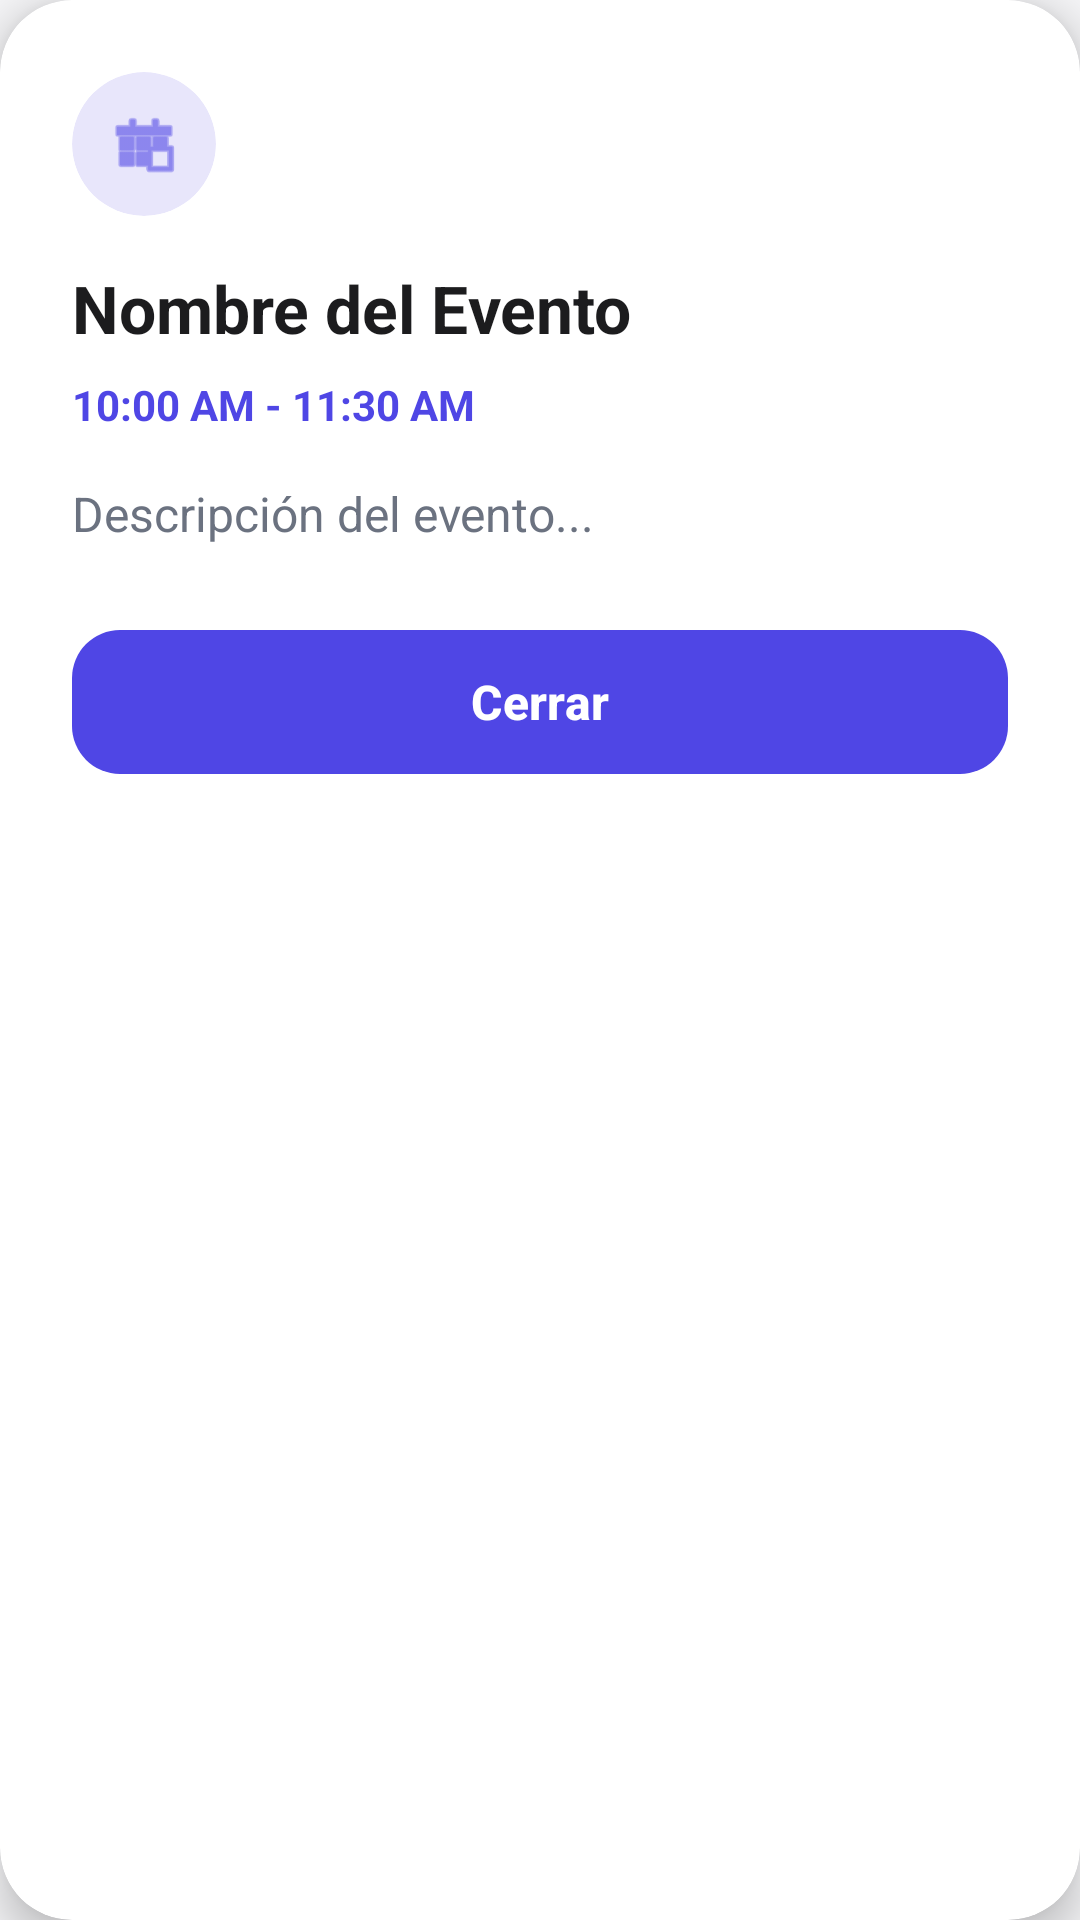

Point at icon controls on the screen. Image size 1080px x 1920px, points as (x,y).
today: (144,145)
